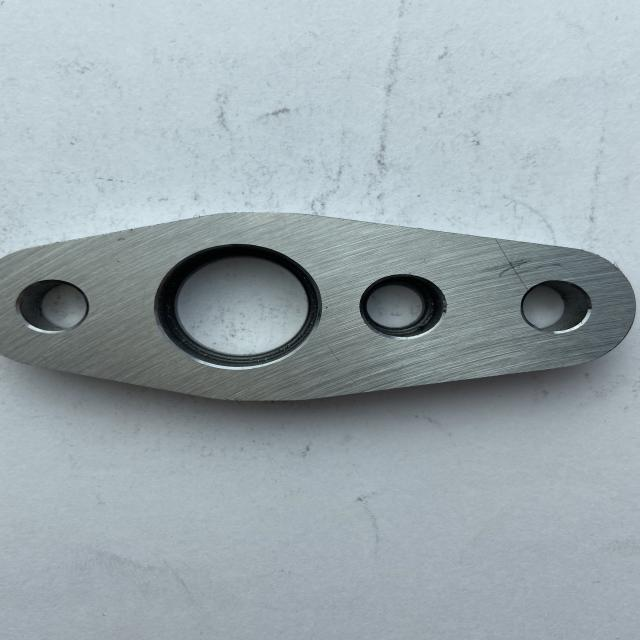chap: (113, 237, 129, 243), (324, 305, 329, 311)
lines: (493, 241, 527, 291)
